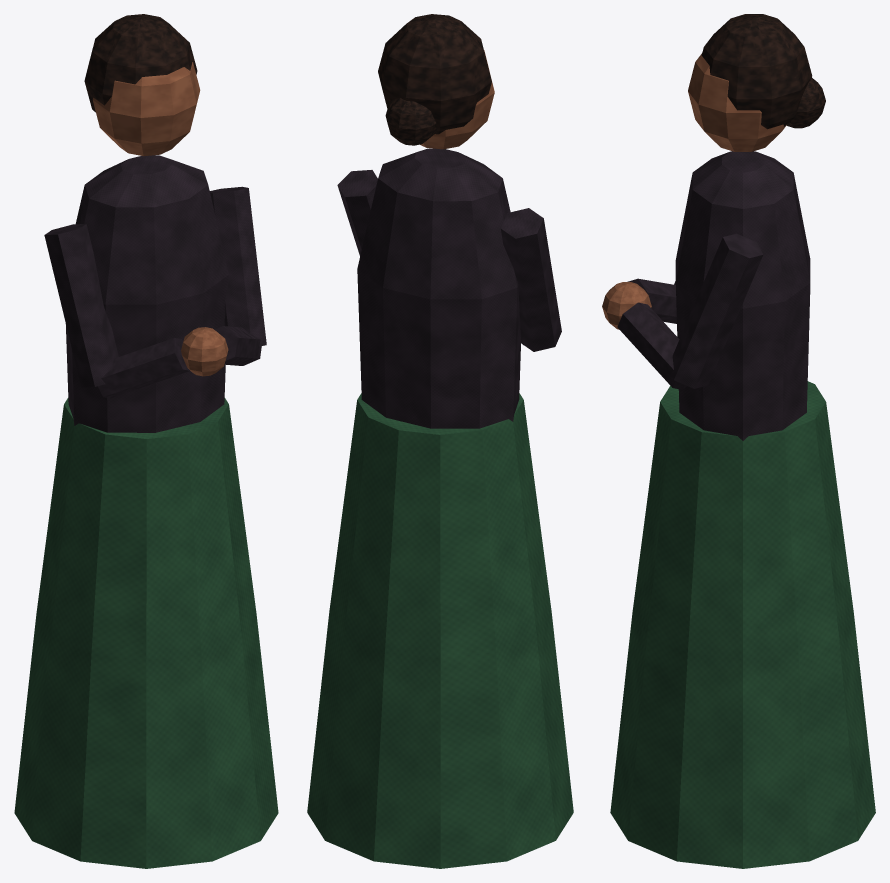
Rendered from persona_mujer5.obj.
The picture shows the model from 3 angles, left to right: view 1: azimuth 30°, elevation 25°; view 2: azimuth 150°, elevation 25°; view 3: azimuth 270°, elevation 25°; orthographic projection.
Parts seen in each view (by area): view 1: Pieza, Pieza.001, Cylinder, Sphere.003, Sphere.004, Cylinder.002, Cylinder.001, Sphere.002, Cylinder.003; view 2: Pieza, Pieza.001, Sphere.004, Cylinder, Cylinder.002, Sphere.005, Sphere.003; view 3: Pieza, Pieza.001, Sphere.004, Cylinder.002, Sphere.003, Cylinder.003, Sphere.002, Cylinder.001, Sphere.005.
Part boxes in pixels (<box>): Pieza: <box>14,398,278,868</box>; Pieza.001: <box>65,155,228,432</box>; Cylinder: <box>44,224,118,387</box>; Sphere.003: <box>92,62,200,156</box>; Sphere.004: <box>84,14,197,112</box>; Cylinder.002: <box>209,186,266,346</box>; Cylinder.001: <box>98,338,190,398</box>; Sphere.002: <box>181,327,228,376</box>; Cylinder.003: <box>214,326,261,365</box>; Pieza: <box>307,393,573,868</box>; Pieza.001: <box>357,148,520,428</box>; Sphere.004: <box>378,14,491,134</box>; Cylinder: <box>500,208,561,351</box>; Cylinder.002: <box>337,170,377,256</box>; Sphere.005: <box>385,98,436,145</box>; Sphere.003: <box>420,50,494,149</box>; Pieza: <box>610,381,875,868</box>; Pieza.001: <box>675,151,810,440</box>; Sphere.004: <box>701,14,812,129</box>; Cylinder.002: <box>671,233,763,388</box>; Sphere.003: <box>688,53,786,151</box>; Cylinder.003: <box>617,302,686,389</box>; Sphere.002: <box>602,282,651,329</box>; Cylinder.001: <box>627,278,676,323</box>; Sphere.005: <box>787,78,825,128</box>.
Bounding box in the file's own units: 0.48 × 1.63 × 0.495.
Materials: 5 (5 with a texture image).
